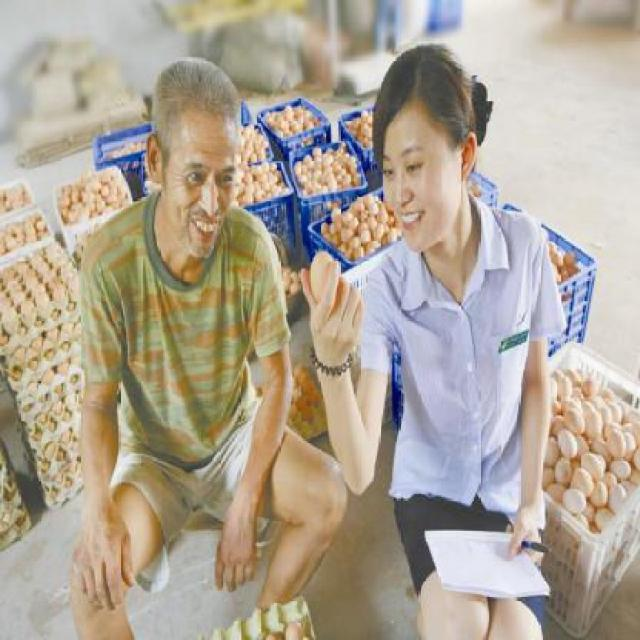Person: (60, 26, 346, 640), (310, 39, 564, 638)
